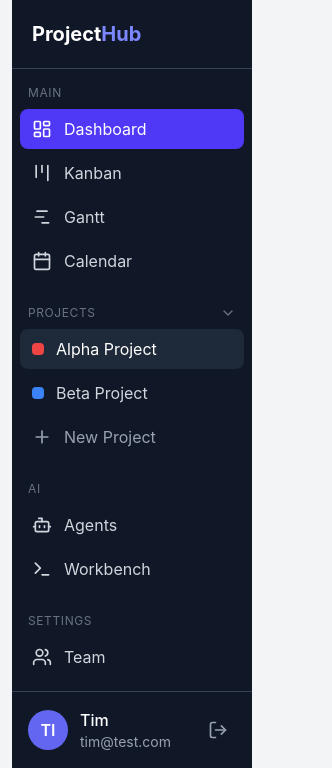
Sidebar › sets aria-expanded on projects toggle
Step 1. Click the button "Projects" → {"x": 132, "y": 313}, box top-left (12, 305), bottom-right (252, 321)
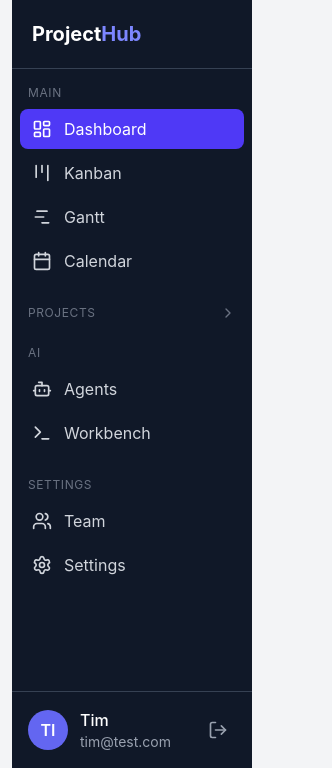
expect the button "Projects" is collapsed: met, box top-left (12, 305), bottom-right (252, 321)
